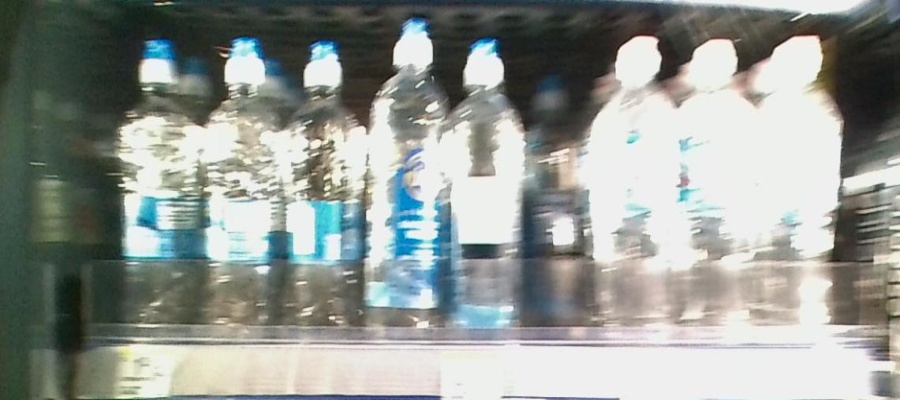bottle: (593, 35, 683, 344), (114, 33, 204, 329), (283, 34, 368, 335), (761, 34, 843, 344), (373, 10, 449, 332), (453, 32, 528, 335), (207, 35, 279, 334), (687, 40, 756, 344)
